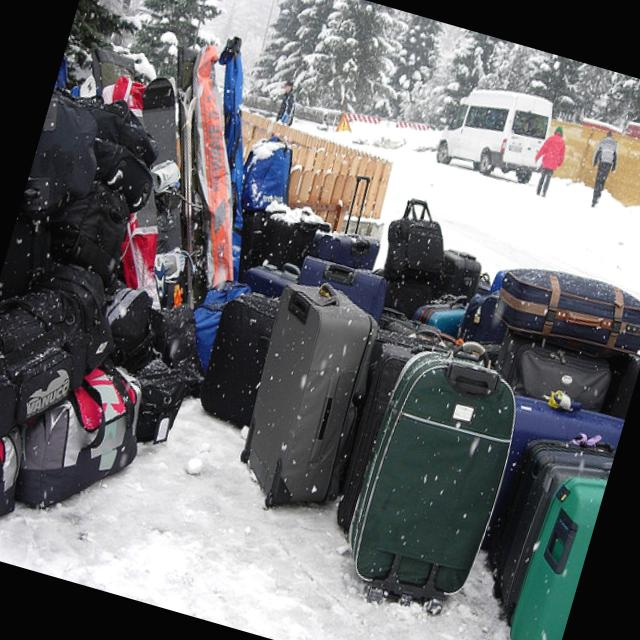Vehicle: (432, 74, 560, 192), (469, 76, 548, 110)
